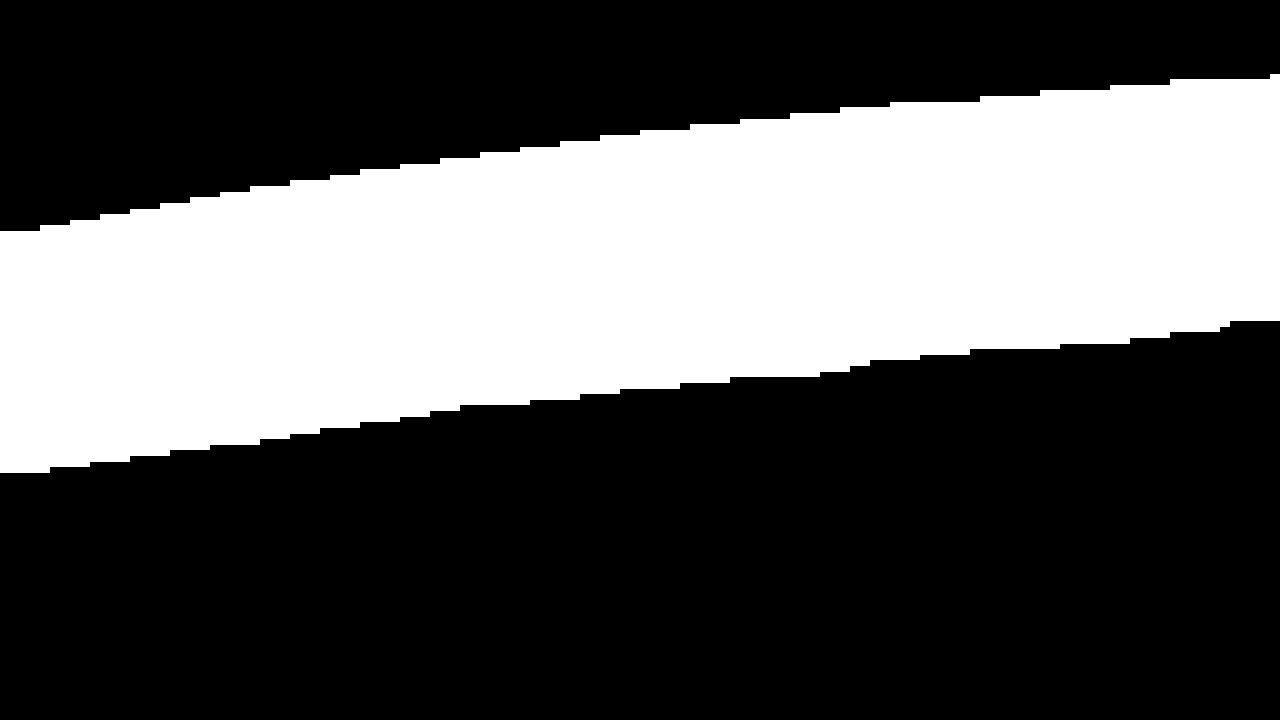Turbine: (3, 56, 1272, 489)
